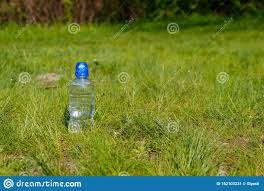plastic_bottle: (65, 60, 98, 133)
